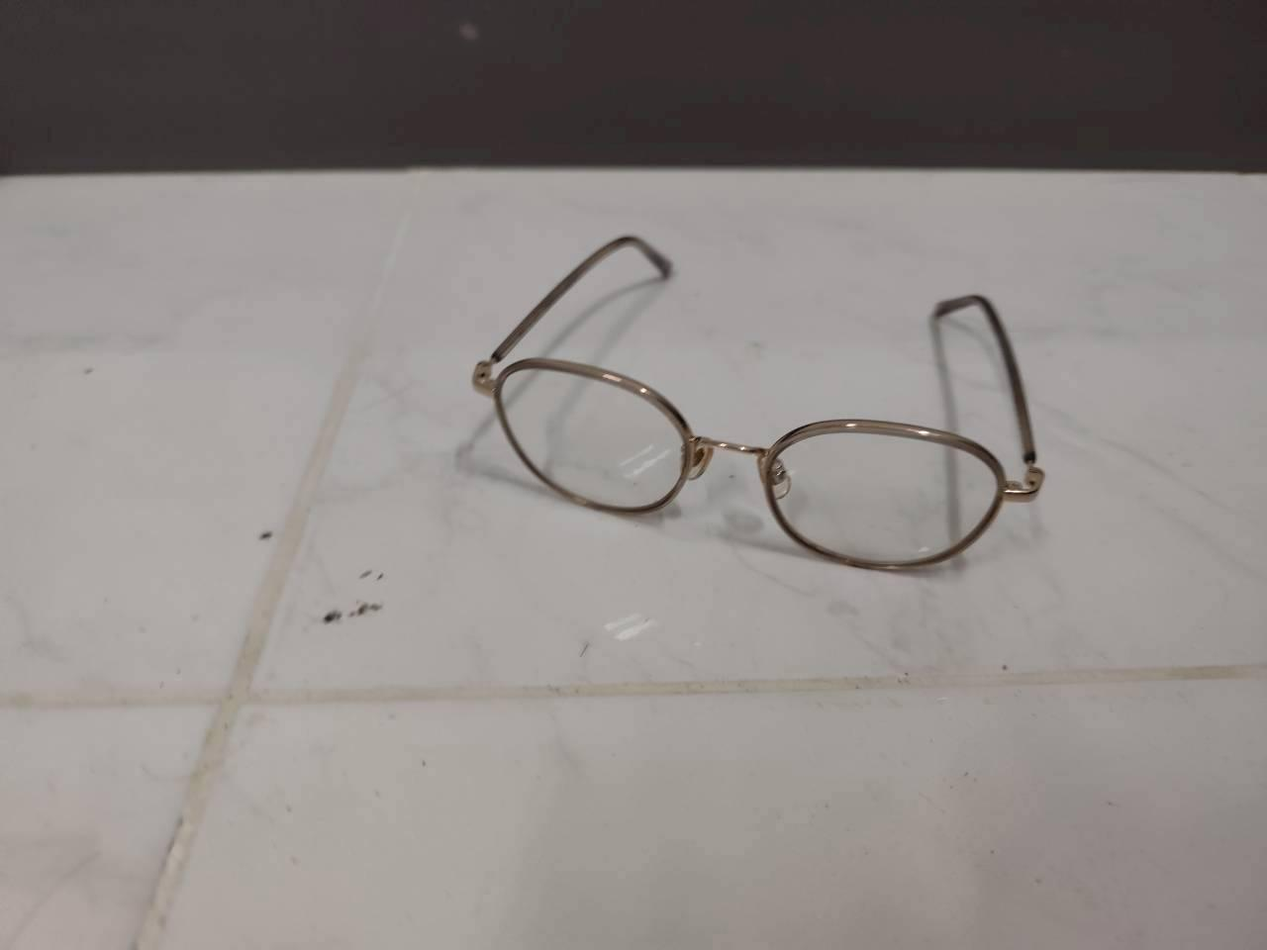glasses: (457, 219, 1060, 581)
